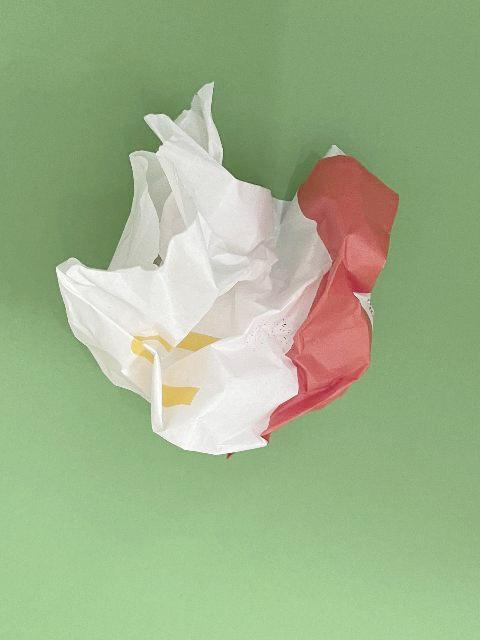paperbag: (54, 80, 400, 462)
